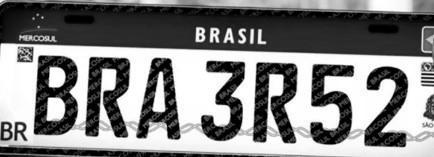placa_mercosul: (0, 1, 433, 155)
